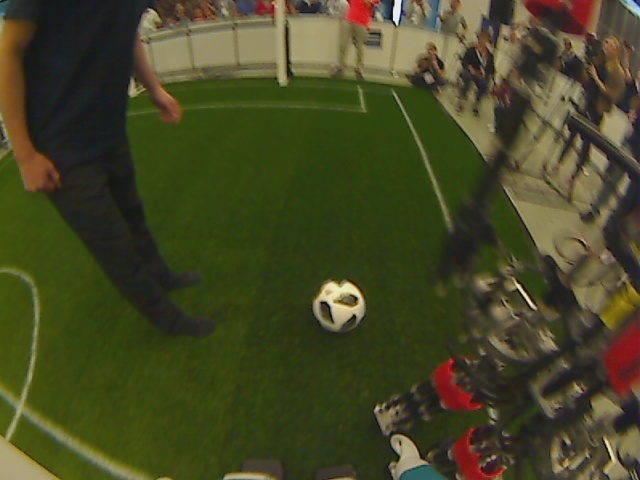ball: (312, 278, 366, 334)
